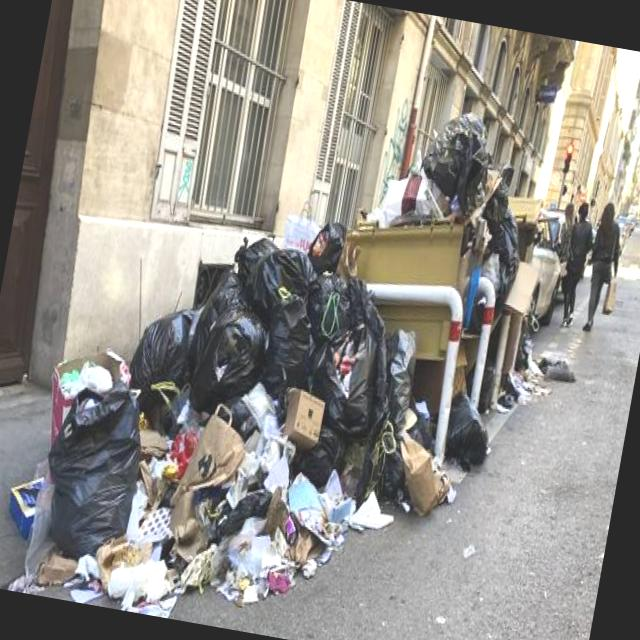garbage: (0, 73, 575, 640)
